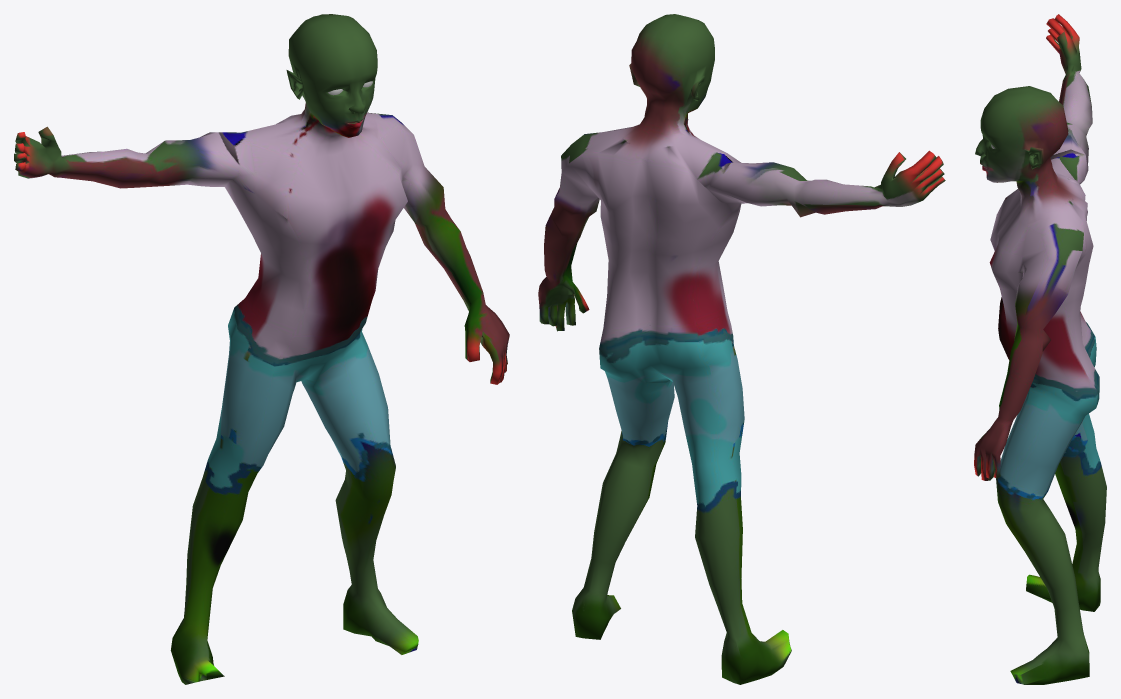
The model's file is monument_1_zombie.obj.
3 renders of one model, left to right at view 1: azimuth 30°, elevation 25°; view 2: azimuth 150°, elevation 25°; view 3: azimuth 270°, elevation 25°, orthographic. The views are drawn at different scales.
Parts seen in each view (by area): view 1: body; view 2: body; view 3: body.
Part boxes in pixels (<box>): body: <box>14,14,509,684</box>; body: <box>538,14,945,684</box>; body: <box>974,14,1106,684</box>.
Size of the model in its own units: 4.54 by 6.06 by 1.3.
1 material, 1 textured.
